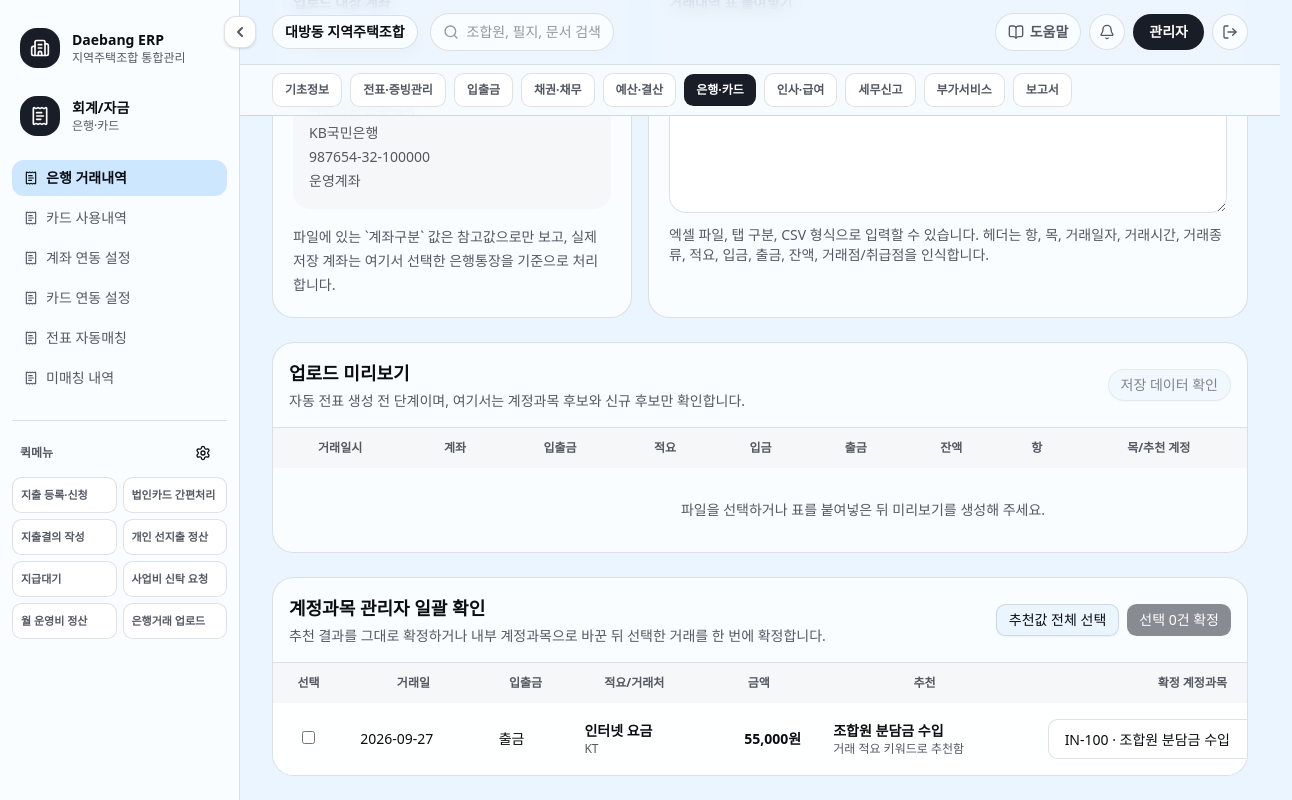
Scenario: BankTransactionUploadPage › lets an administrator bulk-confirm recommended account subjects
The image size is (1292, 800).
(page scrolled)
Click the button "추천값 전체 선택".
click(1058, 620)  # box x1=996 y1=604 x2=1119 y2=636
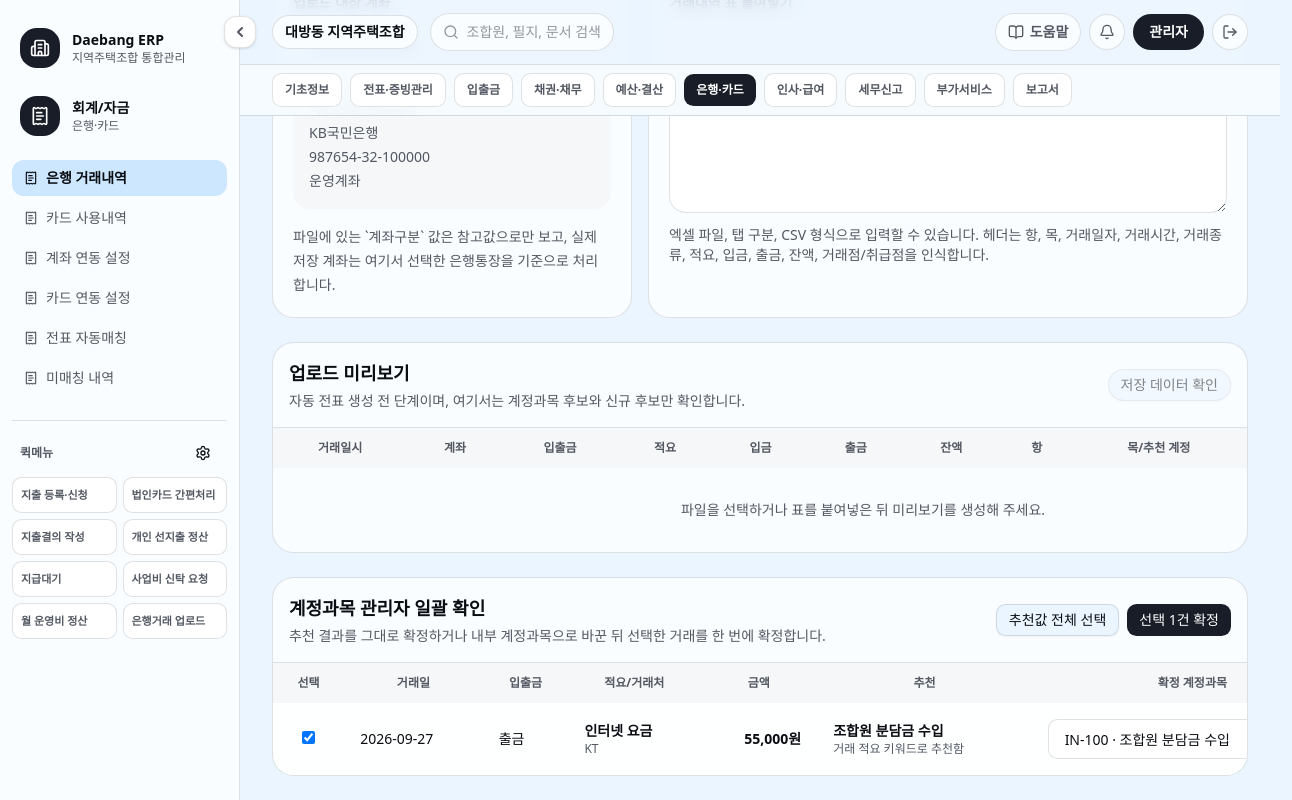
Click the button "선택 1건 확정".
click(1179, 620)  # box x1=1127 y1=604 x2=1231 y2=636
(page scrolled)
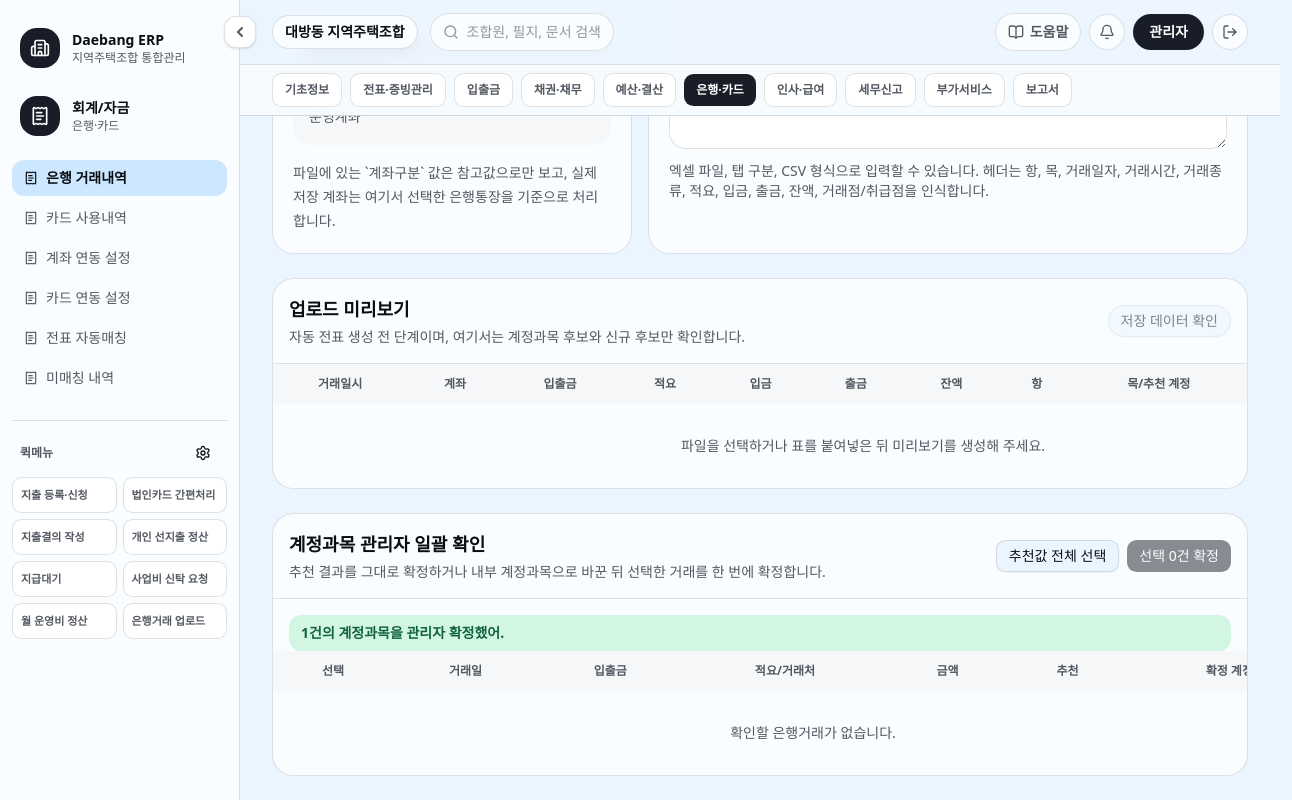
Result: the text "1건의 계정과목을 관리자 확정했어." is shown at x1=289 y1=615 x2=1231 y2=651
Result: the text "확인할 은행거래가 없습니다." is shown at x1=273 y1=691 x2=1247 y2=775
